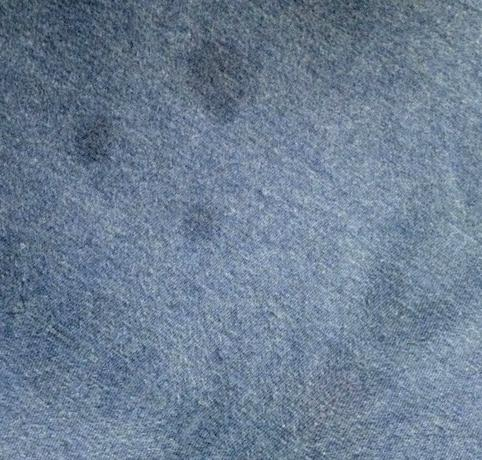stain: (180, 35, 258, 121), (68, 110, 126, 175), (177, 196, 224, 249)
